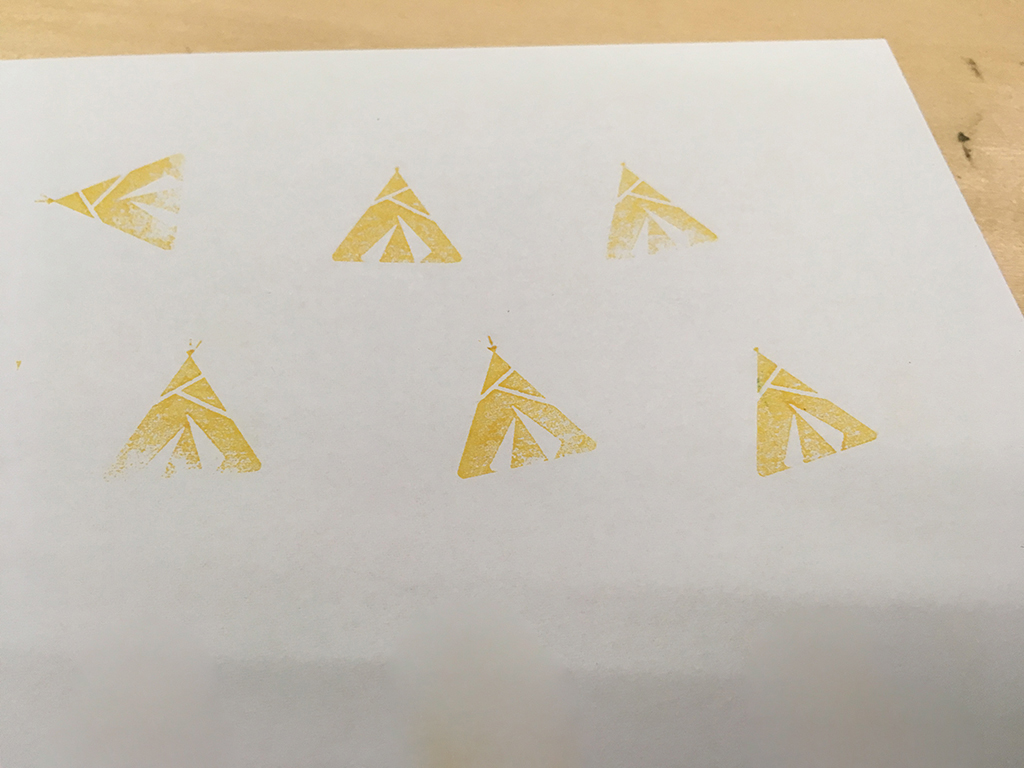tent: (94, 333, 269, 482), (451, 330, 605, 488), (737, 341, 887, 485), (30, 146, 203, 262), (323, 155, 469, 272), (597, 155, 725, 274)
